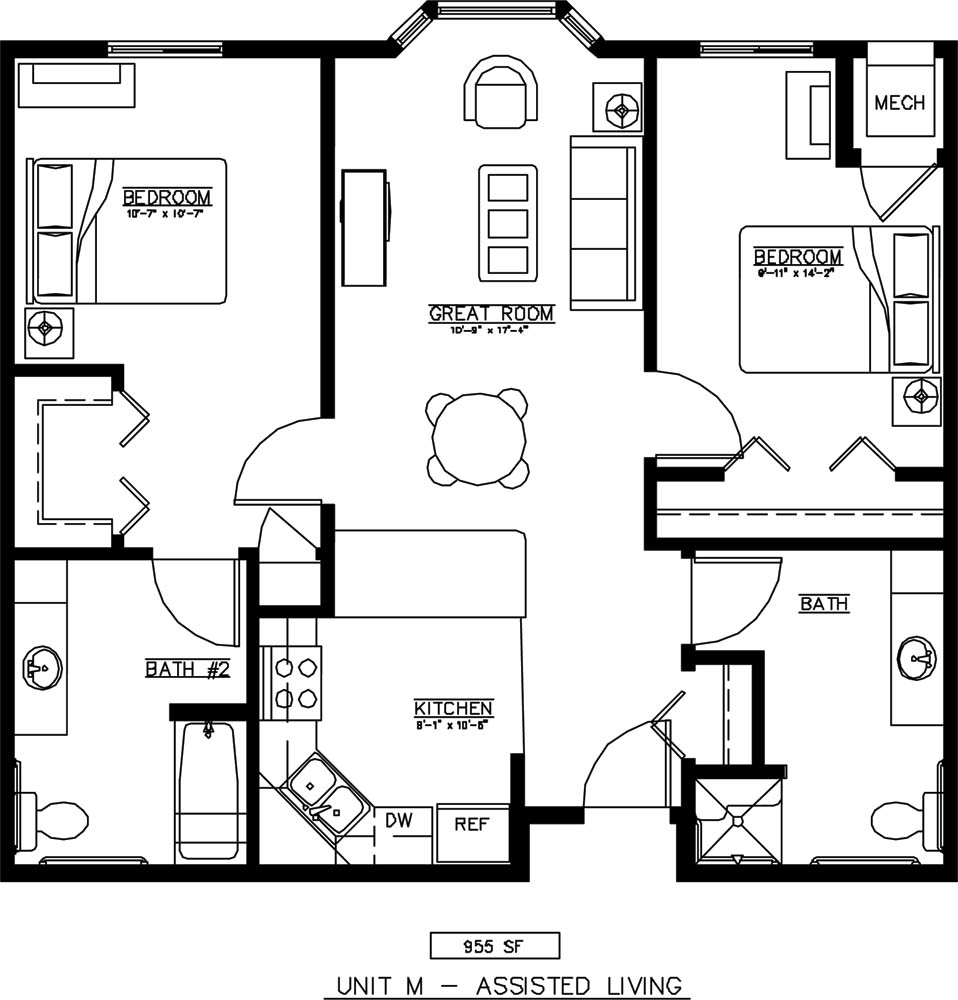door: (140, 563, 240, 649), (217, 418, 317, 501), (651, 370, 739, 458), (705, 551, 788, 642)
window: (436, 1, 555, 17), (110, 43, 229, 59), (707, 39, 807, 57), (566, 6, 593, 51)
